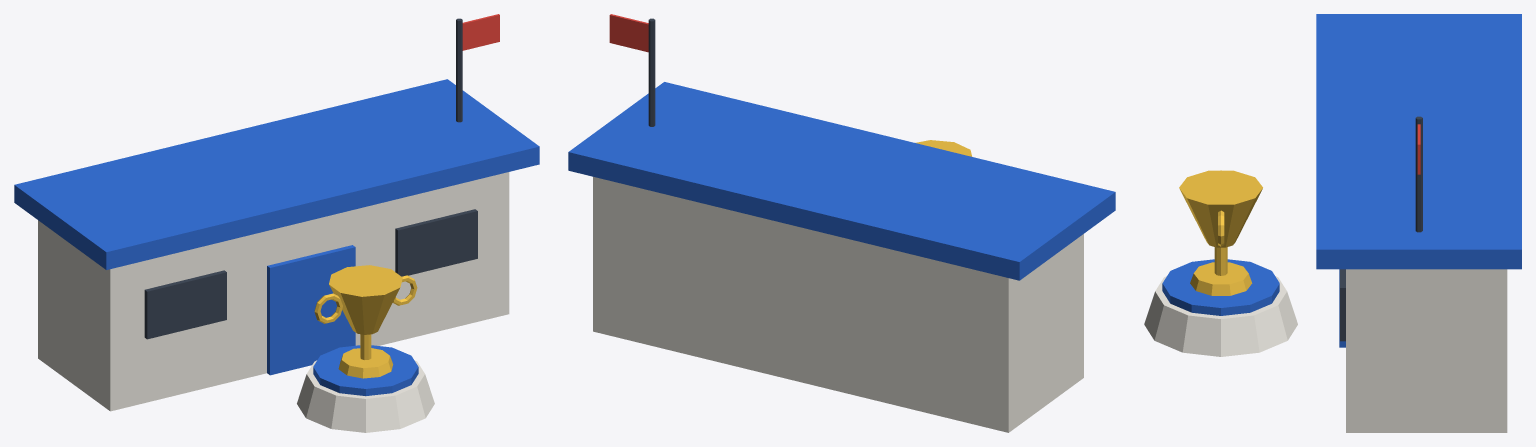
3 views of the same model, side by side, from view 1: azimuth 30°, elevation 25°; view 2: azimuth 150°, elevation 25°; view 3: azimuth 270°, elevation 25° (orthographic). The views are drawn at different scales.
Parts seen in each view (by area): view 1: Building, Cup; view 2: Building; view 3: Building, Cup.
Boxes of the visible parts, x1,y1,x2,y2 form: Building: [14, 14, 539, 432]; Cup: [314, 265, 417, 378]; Building: [568, 14, 1115, 432]; Building: [1144, 14, 1521, 432]; Cup: [1179, 170, 1262, 295].
Bounding box in the file's own units: 7.7 × 4.6 × 5.15.
